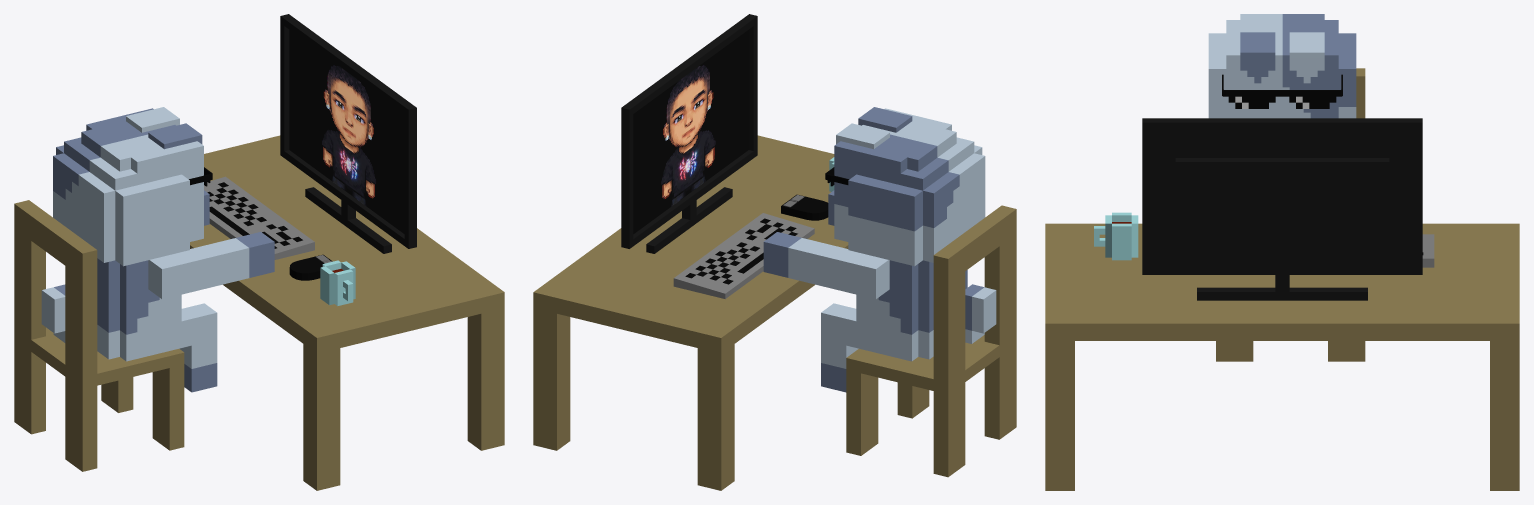
The model's file is dog3.glb.
3 views of the same model, side by side, from view 1: azimuth 30°, elevation 25°; view 2: azimuth 150°, elevation 25°; view 3: azimuth 270°, elevation 25° (orthographic). The views are drawn at different scales.
Parts seen in each view (by area): view 1: desk, Cube.001, display, chair.001, keyboard, Cube.002, mouse; view 2: desk, Cube.001, display, chair.001, keyboard, mouse; view 3: display, desk, Cube.001, chair.001, glaases.001, Cube.002.
Boxes of the visible parts, box(x1,y1,x2,y2) form: desk: box(190, 135, 504, 490); Cube.001: box(41, 107, 274, 392); display: box(280, 14, 416, 253); chair.001: box(14, 200, 184, 471); keyboard: box(204, 176, 314, 259); Cube.002: box(320, 260, 355, 305); mouse: box(289, 254, 332, 280); desk: box(533, 135, 848, 490); Cube.001: box(763, 107, 996, 392); display: box(621, 14, 757, 253); chair.001: box(846, 205, 1016, 477); keyboard: box(673, 213, 814, 298); mouse: box(781, 194, 828, 220); display: box(1142, 118, 1422, 300); desk: box(1045, 223, 1519, 490); Cube.001: box(1208, 14, 1356, 118); chair.001: box(1216, 68, 1365, 361); glaases.001: box(1222, 74, 1342, 108); Cube.002: box(1094, 212, 1138, 260).
Size of the model in its own units: 1.85 by 1.61 by 2.
13 materials, 1 textured.
